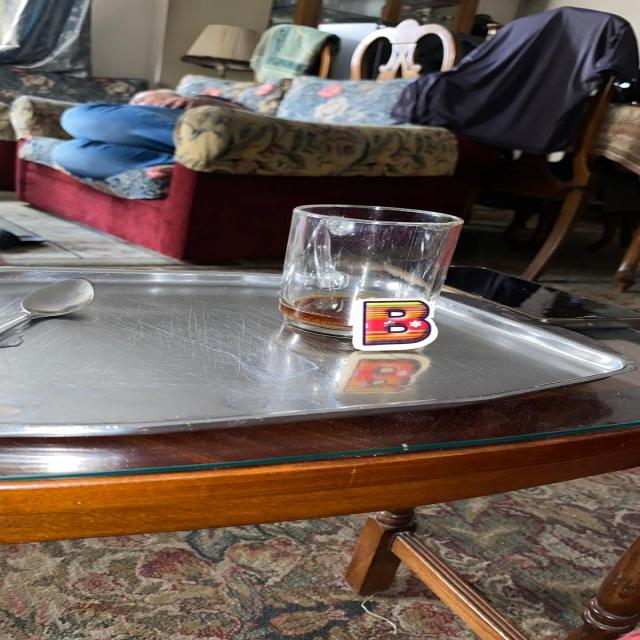B: (352, 299, 437, 350)
